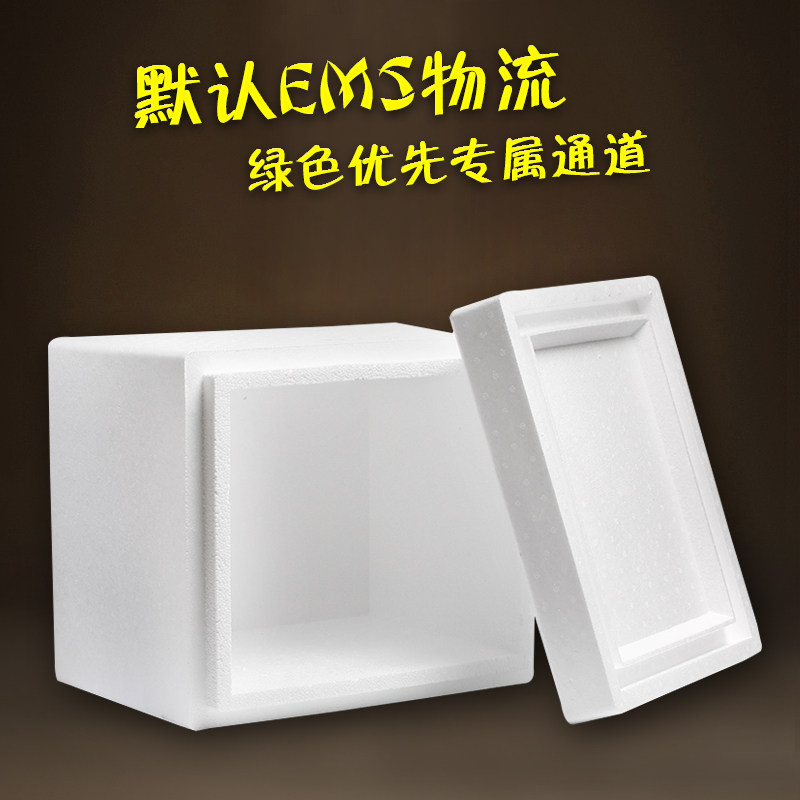Boxes: (49, 277, 761, 729)
